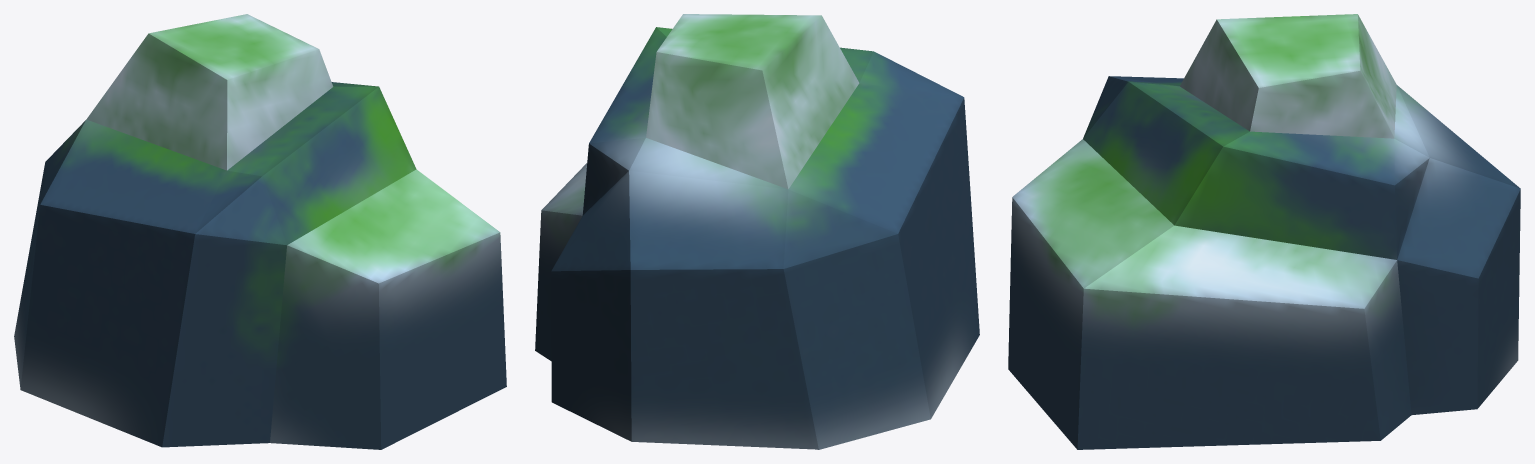
File: Rock_Moss_7.fbx
3 views of the same model, side by side, from view 1: azimuth 30°, elevation 25°; view 2: azimuth 150°, elevation 25°; view 3: azimuth 270°, elevation 25° (orthographic). The views are drawn at different scales.
Visible parts, largest first — view 1: Rock_Moss_7; view 2: Rock_Moss_7; view 3: Rock_Moss_7.
Boxes of the visible parts, x1,y1,x2,y2 form: Rock_Moss_7: (14,14,506,449); Rock_Moss_7: (535,14,979,449); Rock_Moss_7: (1008,14,1520,449).
Bounding box in the file's own units: 1.01 × 0.8116 × 1.17.
